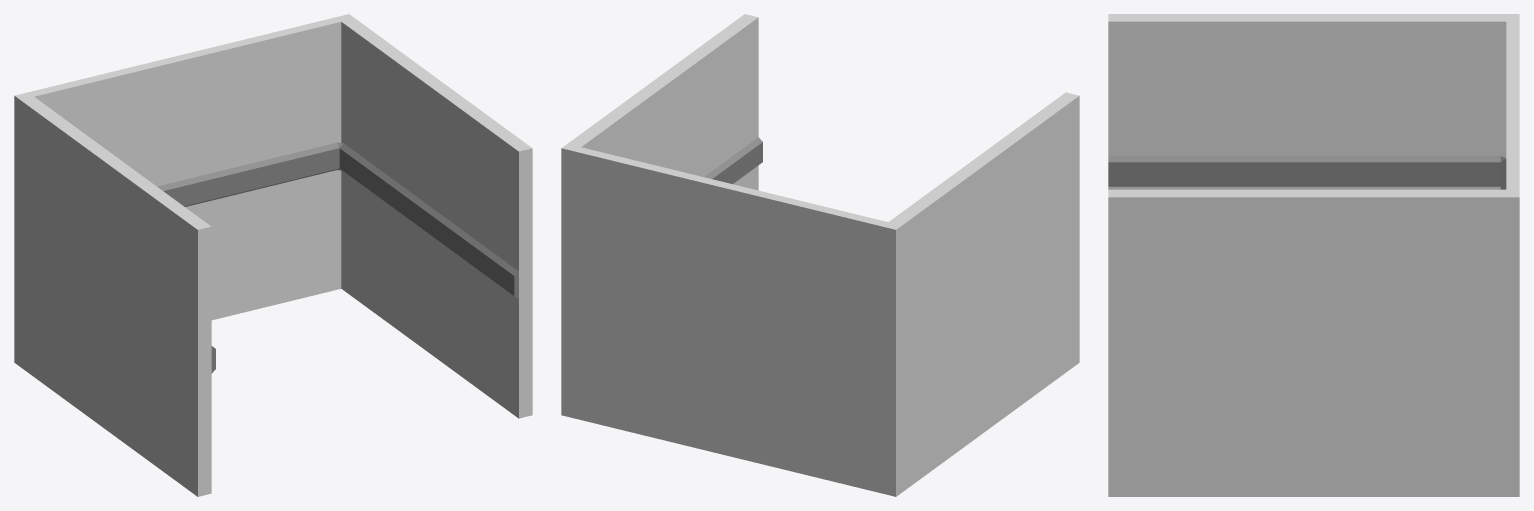
File: Counter_3_B.glb
The picture shows the model from 3 angles, left to right: view 1: azimuth 30°, elevation 25°; view 2: azimuth 150°, elevation 25°; view 3: azimuth 270°, elevation 25°; orthographic projection. The views are drawn at different scales.
Visible parts, largest first — view 1: Counter 3 B; view 2: Counter 3 B; view 3: Counter 3 B.
Boxes of the visible parts, x1,y1,x2,y2 form: Counter 3 B: (14, 14, 532, 496); Counter 3 B: (561, 14, 1079, 496); Counter 3 B: (1108, 14, 1519, 496).
Bounding box in the file's own units: 1 × 0.7623 × 0.949.
1 material, 1 textured.
